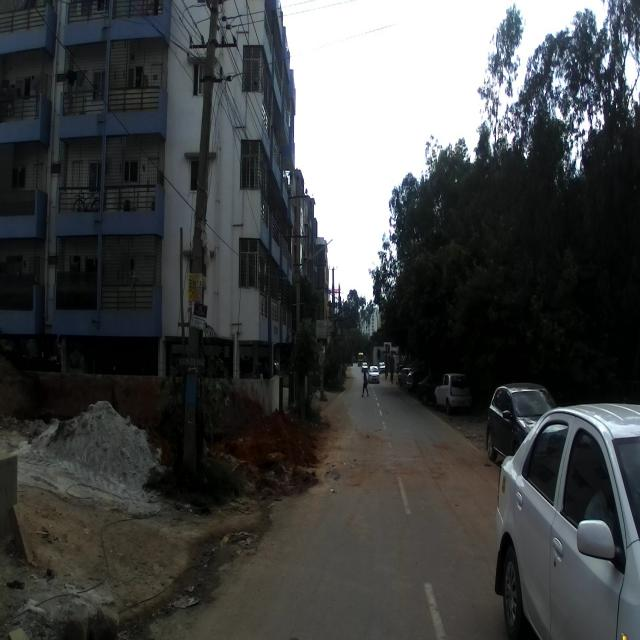Car_TATA: (434, 370, 472, 414)
Car_Toyota: (494, 403, 639, 639)
